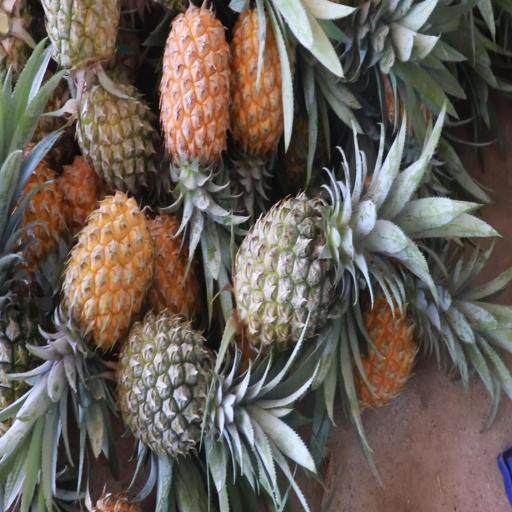Pineapple - v8 v1: (50, 195, 154, 382), (160, 0, 232, 213), (229, 0, 284, 163)
